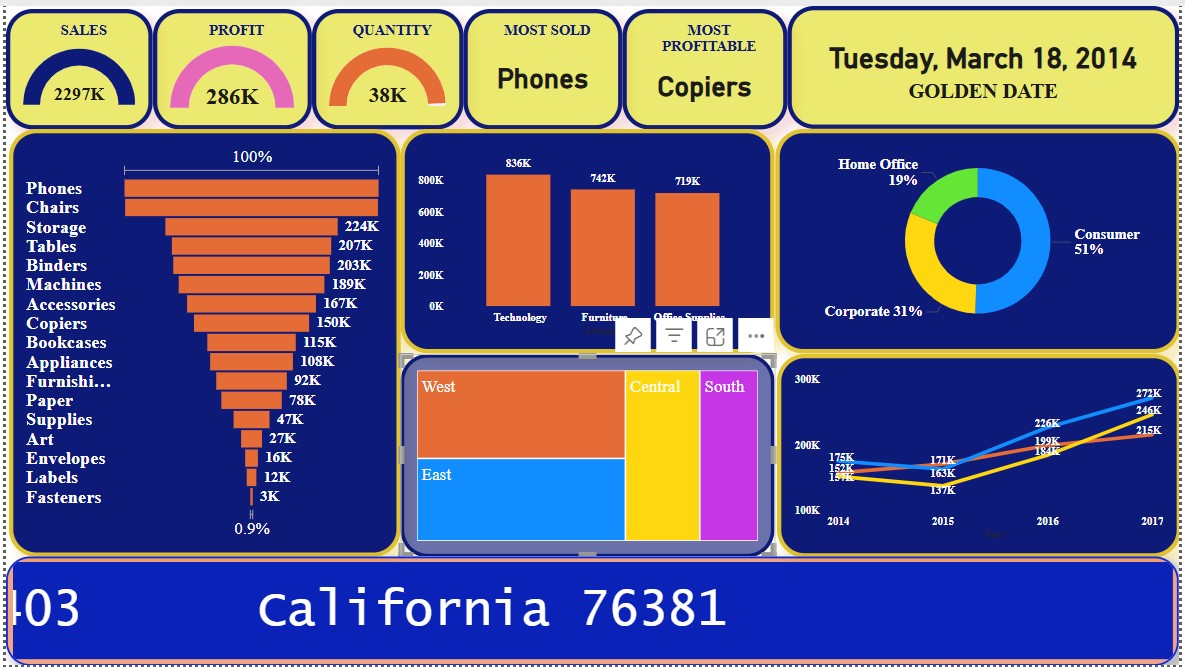

What the dashboard file says about the page in this screenshot:
{"tool":"powerbi","page":{"name":"DASHBOARD","canvas":[1280,720],"ordinal":9},"visuals":[{"type":"gauge","title":"SALES","fields":{"Y":["Sum(Orders.Sales)"]},"box":[0,3.2,160.3,131.2],"z":0},{"type":"gauge","title":"PROFIT","fields":{"Y":["Sum(Orders.Profit)"]},"box":[160.3,3.2,173.3,131.2],"z":1000},{"type":"gauge","title":"QUANTITY","fields":{"Y":["Sum(Orders.Quantity)"]},"box":[333.6,3.2,165.2,131.2],"z":2000},{"type":"card","title":"MOST SOLD","fields":{"Values":["Min(Orders.Sub-Category)"]},"box":[498.7,3.2,173.3,131.2],"z":3000},{"type":"card","title":"MOST PROFITABLE","fields":{"Values":["Min(Orders.Sub-Category)"]},"box":[672,3.2,179.7,131.2],"z":4000},{"type":"card","fields":{"Values":["Min(Orders.Order Date)"]},"box":[852.3,0,427.1,134.2],"z":5000},{"type":"funnel","fields":{"Y":["Sum(Orders.Sales)"],"Category":["Orders.Sub-Category"]},"box":[3.2,134.4,427.5,466.3],"z":6000},{"type":"columnChart","fields":{"Y":["Sum(Orders.Sales)"],"Category":["Orders.Category"]},"box":[430.7,134.4,408,244.5],"z":7000},{"type":"treemap","fields":{"Values":["Sum(Orders.Sales)"],"Group":["Orders.Region"]},"box":[430.7,378.9,408,221.8],"z":8000},{"type":"donutChart","fields":{"Y":["Sum(Orders.Sales)"],"Category":["Orders.Segment"]},"box":[838.8,134.4,442,244.5],"z":9000},{"type":"lineChart","fields":{"Y":["Sum(Orders.Sales)"],"Category":["Orders.Order Date.Variation.Date Hierarchy.Year","Orders.Order Date.Variation.Date Hierarchy.Quarter","Orders.Order Date.Variation.Date Hierarchy.Month","Orders.Order Date.Variation.Date Hierarchy.Day"],"Series":["Orders.Category"]},"box":[840.4,378.9,440.4,221.8],"z":10000},{"type":"ScrollingTextVisual1448795304508","fields":{"Measure Absolute":["Sum(Orders.Profit)"],"Category":["Orders.State"]},"box":[0,600.9,1279.4,119.1],"z":11000}]}

Visuals, with their boxes in screenshot pixels (x1, y1, x2, y2), scaled from the page's 1280x720 canvas onto the 1185x667 screenshot:
"SALES" gauge: [0,3,148,125]
"PROFIT" gauge: [148,3,309,125]
"QUANTITY" gauge: [309,3,462,125]
"MOST SOLD" card: [462,3,622,125]
"MOST PROFITABLE" card: [622,3,788,125]
card - Min(Orders.Order Date): [789,0,1184,124]
funnel - Sum(Orders.Sales) x Orders.Sub-Category: [3,125,399,556]
columnChart - Sum(Orders.Sales) x Orders.Category: [399,125,776,351]
treemap - Sum(Orders.Sales) x Orders.Region: [399,351,776,556]
donutChart - Sum(Orders.Sales) x Orders.Segment: [777,125,1184,351]
lineChart - Sum(Orders.Sales) x Orders.Order Date.Variation.Date Hierarchy.Year: [778,351,1184,556]
ScrollingTextVisual1448795304508 - Sum(Orders.Profit) x Orders.State: [0,557,1184,666]
